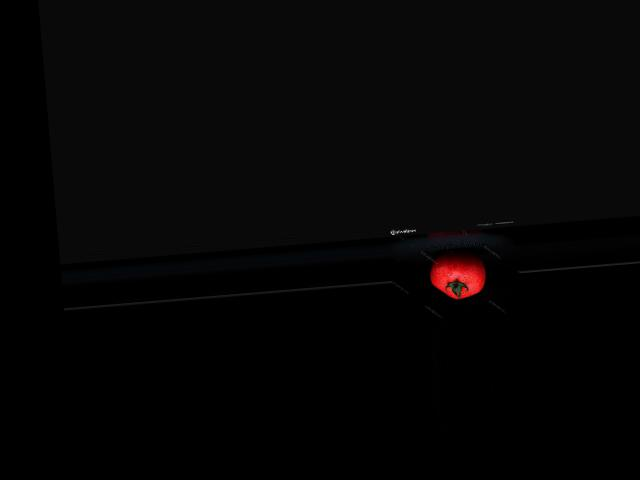tomato: (428, 248, 488, 301)
